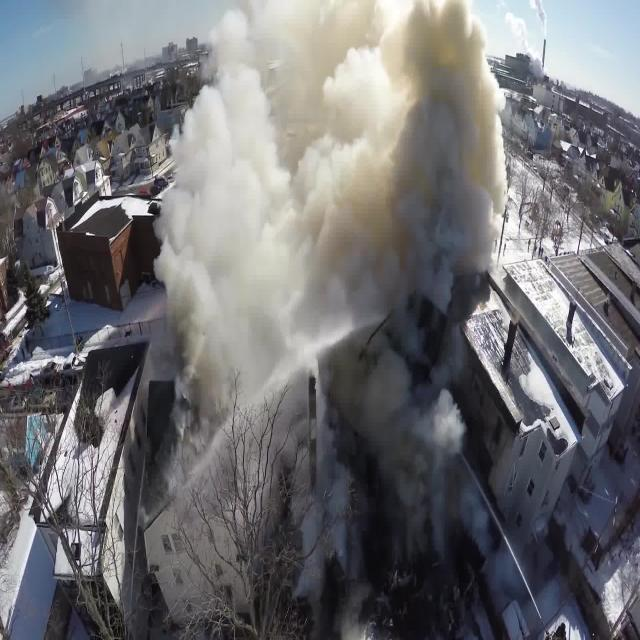Smoke: (180, 8, 492, 536)
